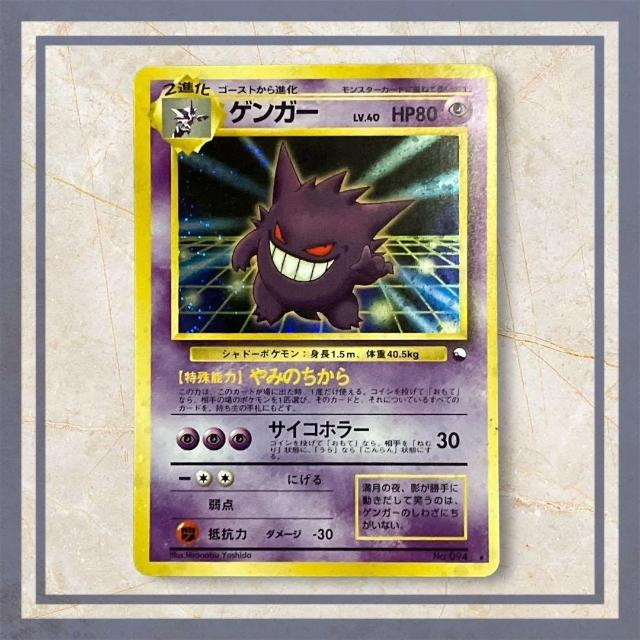Card: (129, 59, 504, 581)
Name: (226, 96, 323, 130)
